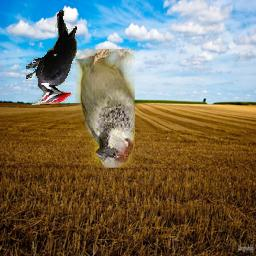Sparrow: (75, 50, 135, 169)
Woodpecker: (27, 11, 78, 106)
